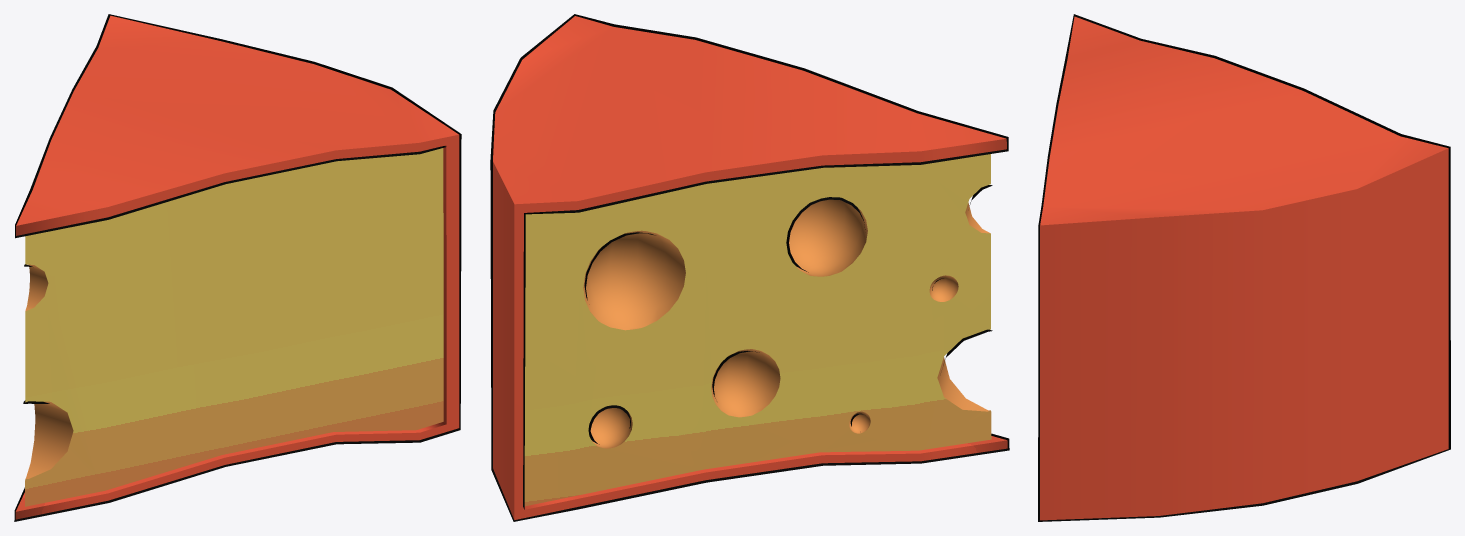
The picture shows the model from 3 angles, left to right: view 1: azimuth 30°, elevation 25°; view 2: azimuth 150°, elevation 25°; view 3: azimuth 270°, elevation 25°; orthographic projection. The views are drawn at different scales.
Visible parts, largest first — view 1: Cheese (4) (2); view 2: Cheese (4) (2); view 3: Cheese (4) (2).
Part boxes in pixels (bbox=[...]): Cheese (4) (2): bbox=[14, 14, 461, 521]; Cheese (4) (2): bbox=[490, 14, 1009, 521]; Cheese (4) (2): bbox=[1038, 14, 1450, 521].
Size of the model in its own units: 11.62 by 8.04 by 9.63.
Materials: 2 (1 with a texture image).
